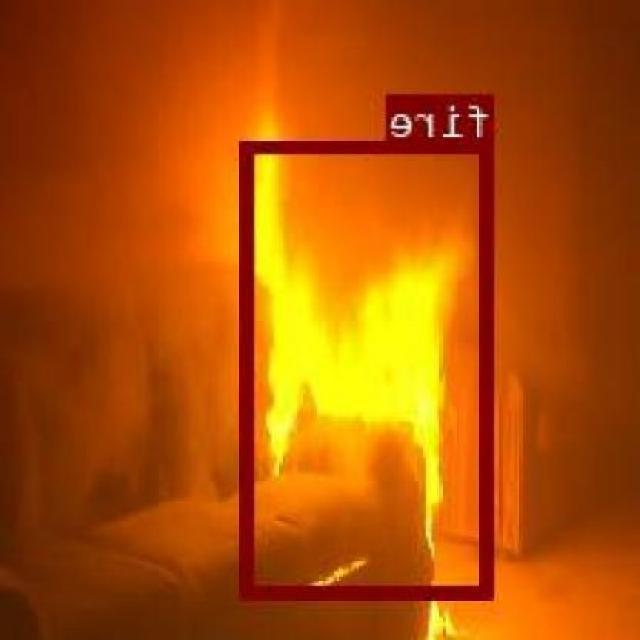Fire: (246, 137, 497, 596)
